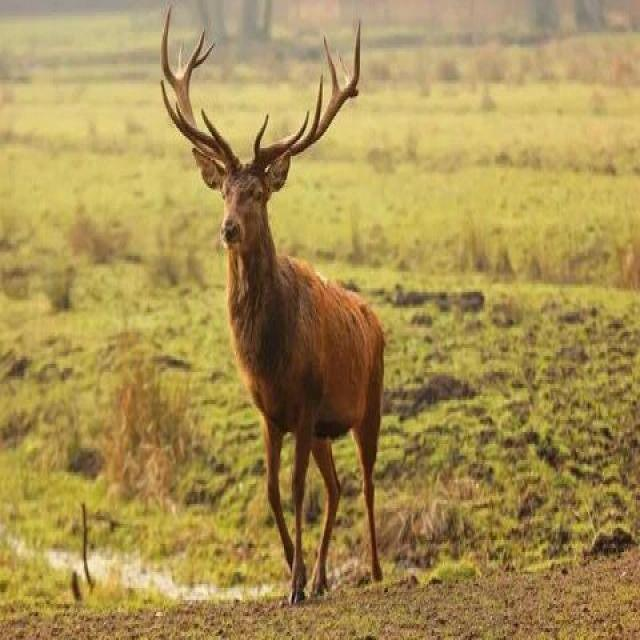deer: (166, 29, 432, 595)
